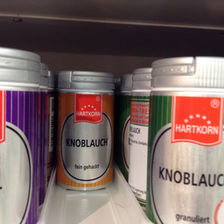spices: (144, 55, 223, 224), (56, 70, 115, 191)
